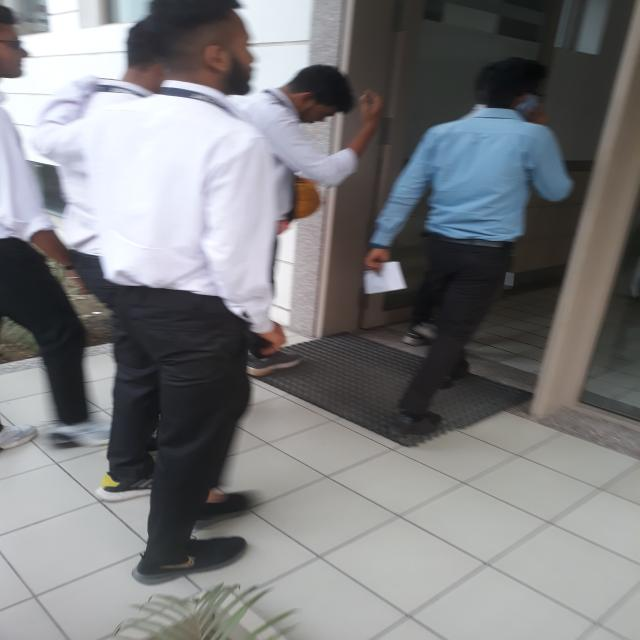unsafe: (97, 0, 285, 586), (366, 51, 574, 442)
